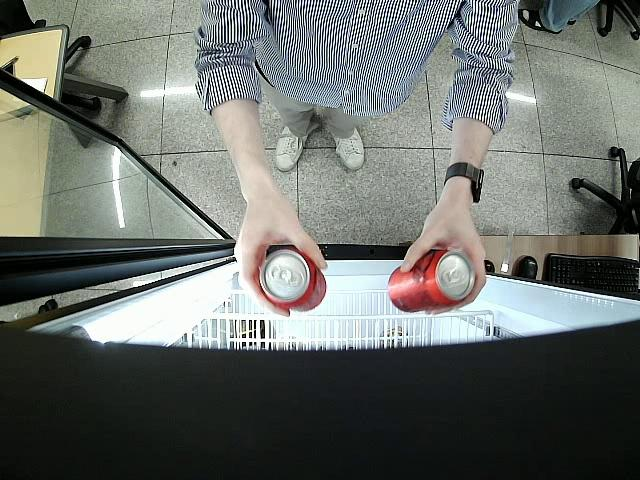00_hand: (233, 200, 328, 314), (399, 202, 486, 314)
11_cocaColaZero: (386, 246, 475, 313), (255, 248, 327, 309)
